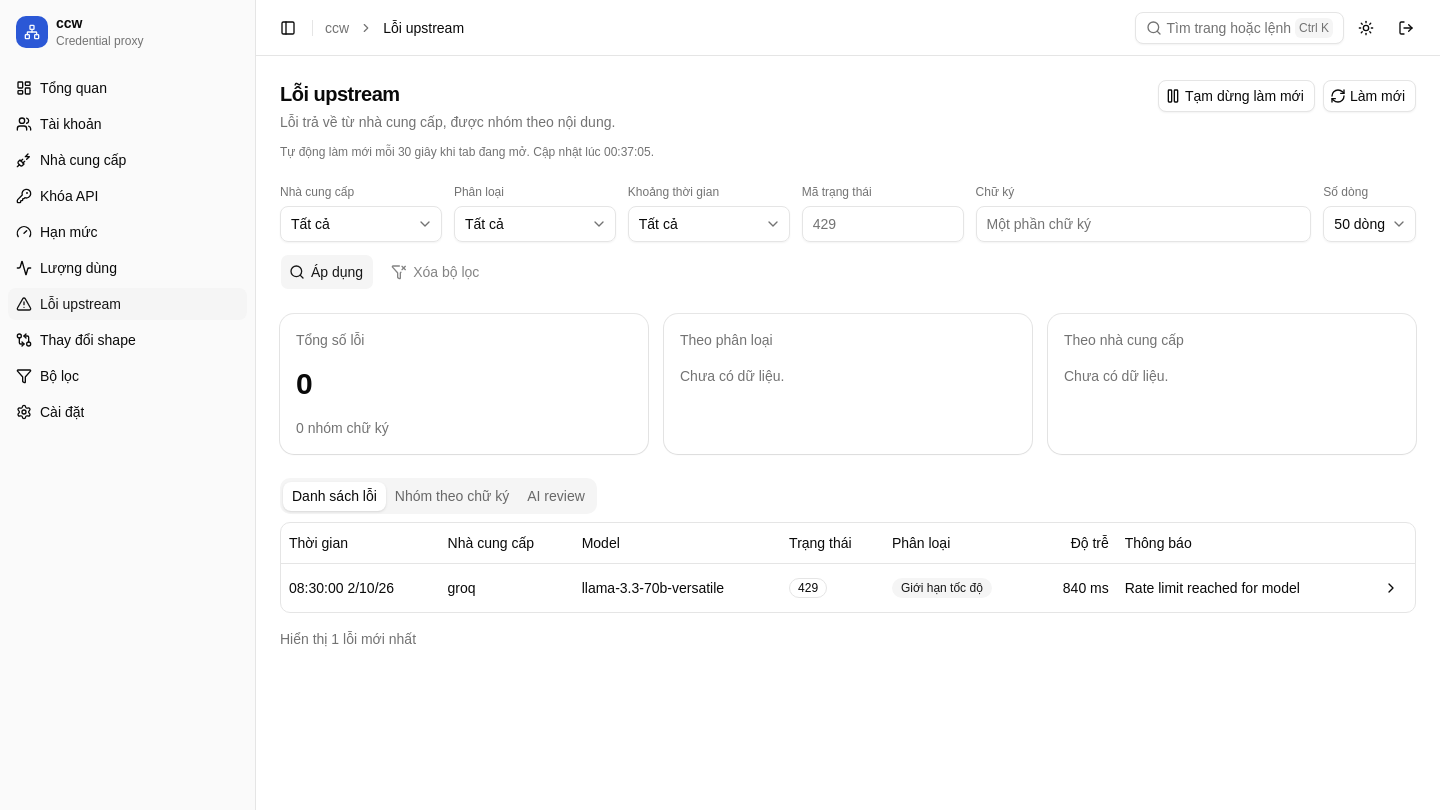
errors page › opens an error with its request and response and flags a clipped body
Click the button named "Xem chi tiết lỗi #12". click: [1391, 588]
box: [1375,572,1407,604]
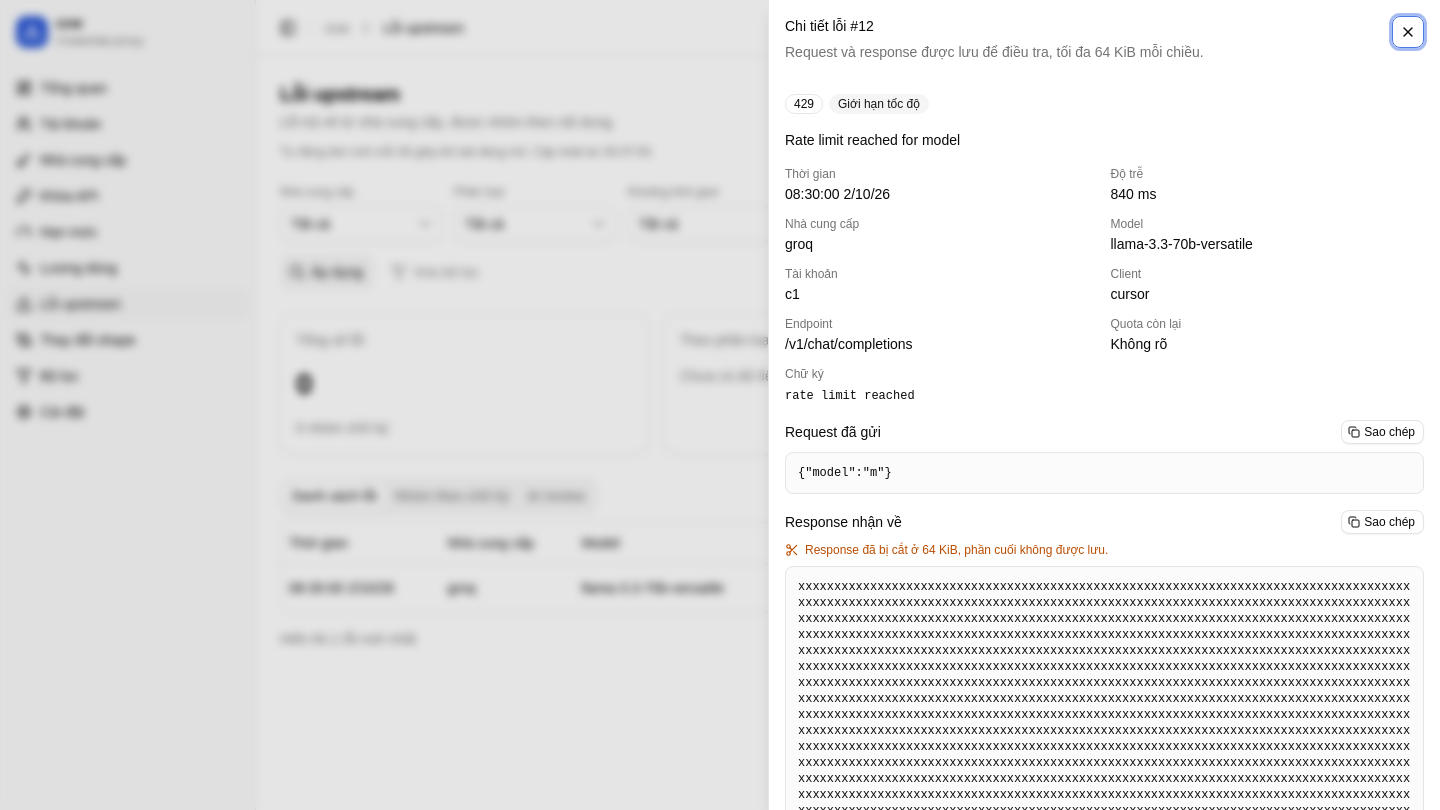
Expected: the text "{\"model\":\"m\"}" is shown, [798,466,892,480]
Expected: the text "Response đã bị cắt ở 64 KiB, phần cuối không được lưu." is shown, [785,543,1108,557]
Expected: the button with aria-label "Sao chép request" is shown, [1341,420,1424,444]
